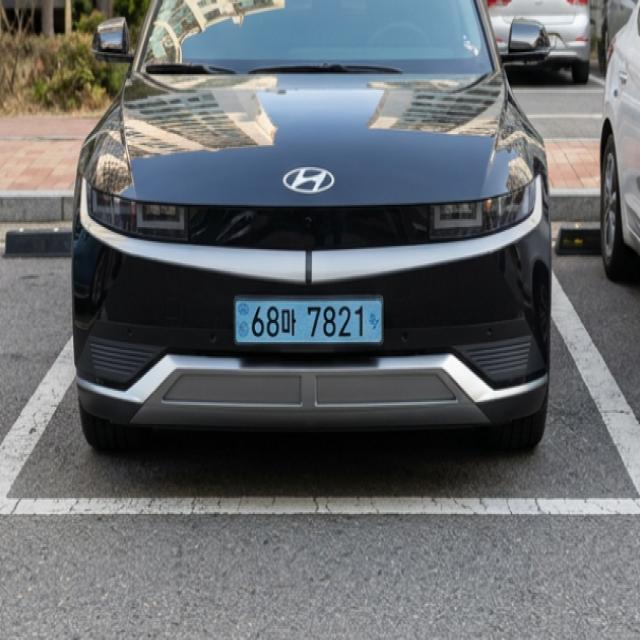car: (212, 295, 410, 361)
carev: (365, 298, 384, 347), (233, 300, 251, 350)
